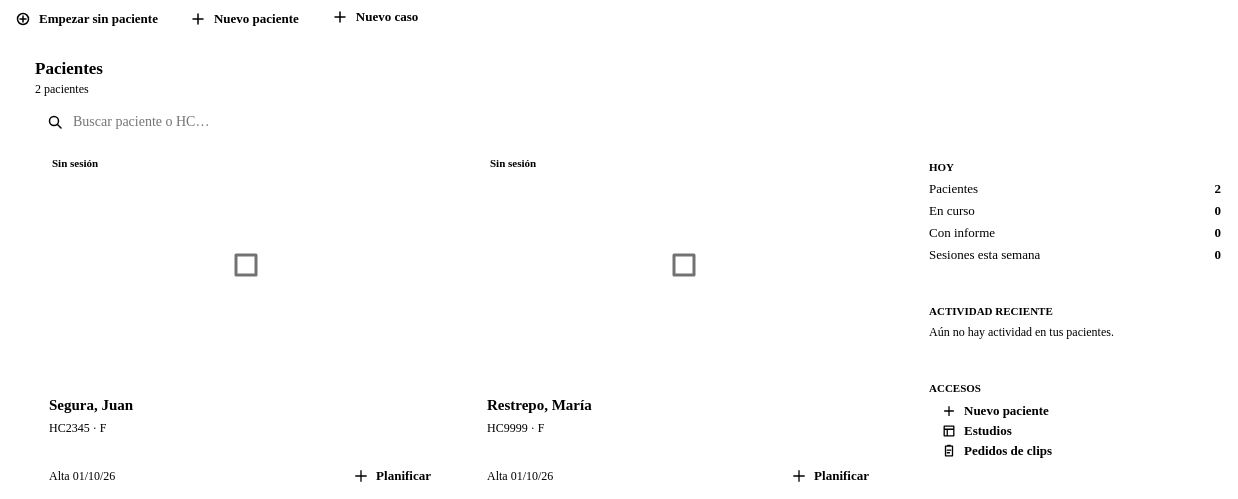
Scenario: la lista de pacientes (F2) › la búsqueda filtra por nombre y por HC sin distinguir mayúsculas
expect the heading "Segura, Juan" is shown: met, box [49,397,133,413]
Type "segura" into the field with placeholder "Buscar paciente o HC…".
click(187, 122); type("segura")  # box [71,112,303,130]
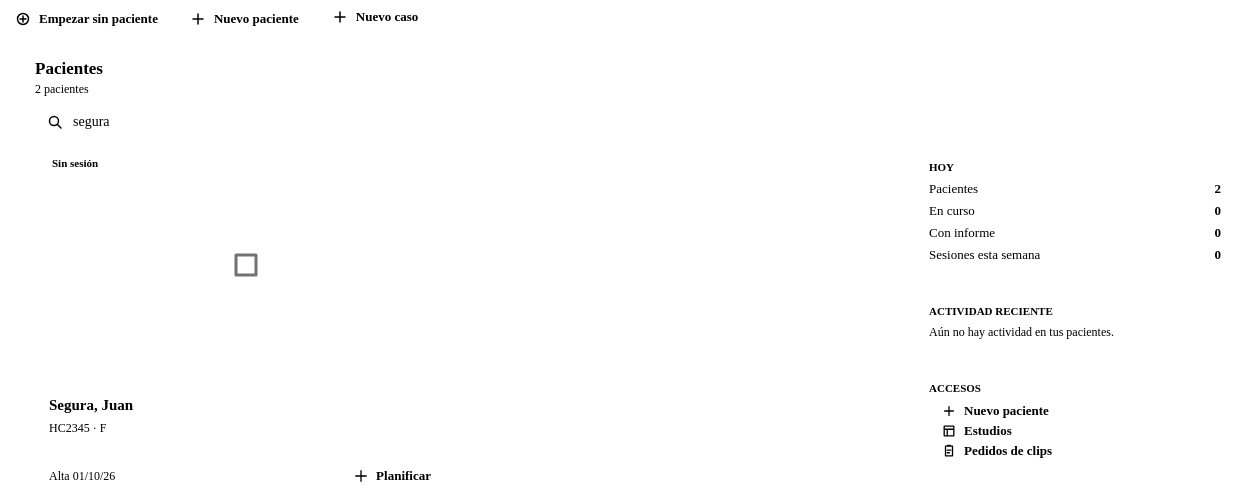
expect the heading "Segura, Juan" is shown: met, box [49,397,133,413]
expect the heading "Restrepo, María" is gone: met
Replace the text in the field with placeholder "Buscar paciente o HC…" with "hc9999" at (187, 122), box [71,112,303,130]
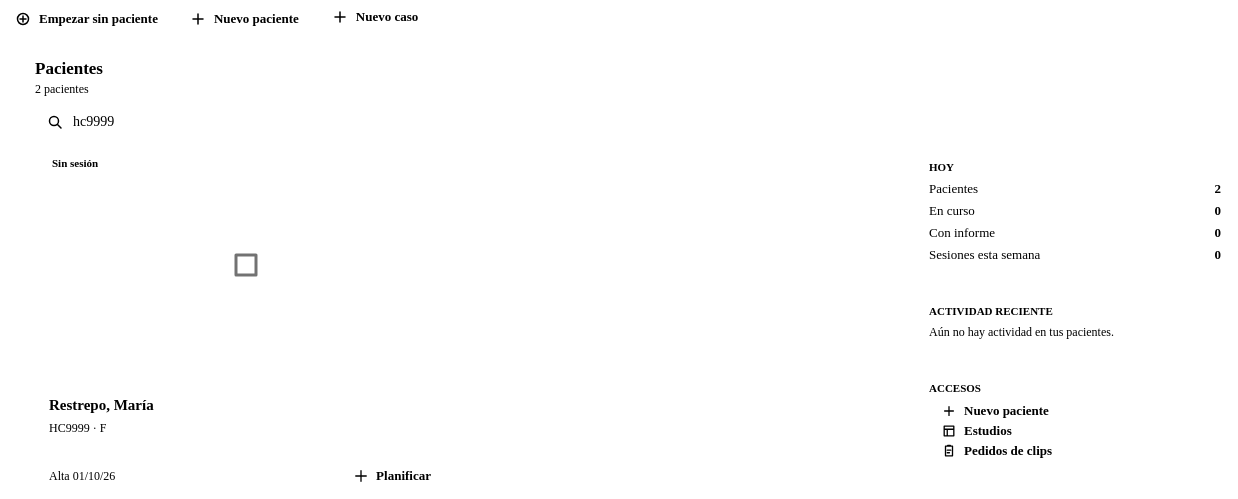
expect the heading "Segura, Juan" is gone: met
expect the heading "Restrepo, María" is shown: met, box [49,397,154,413]
Replace the text in the field with placeholder "Buscar paciente o HC…" with "basilar" at (187, 122), box [71,112,303,130]
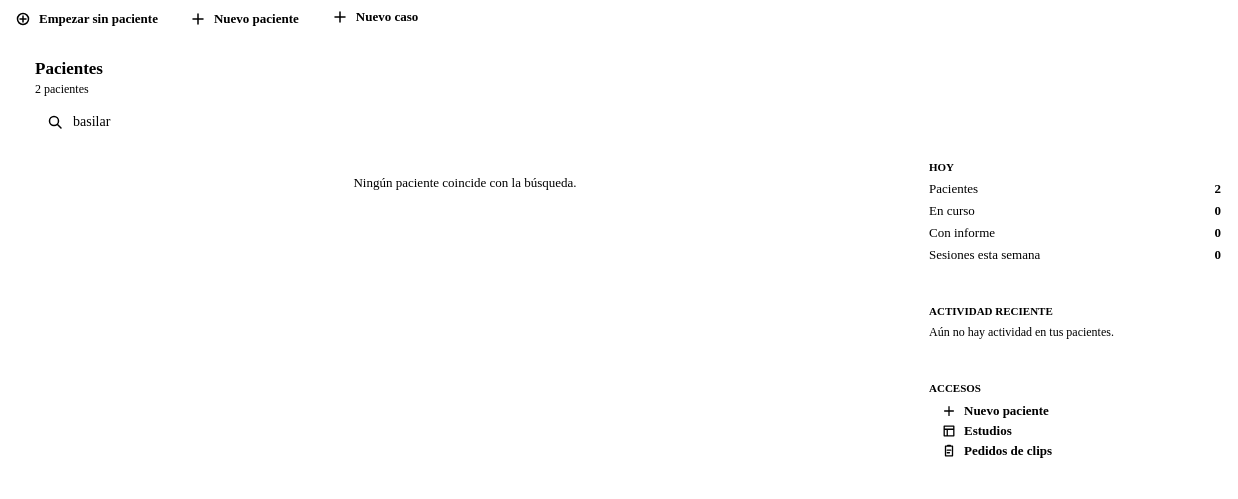
expect the text "Ningún paciente coincide con la búsqueda." is shown: met, box [354,174,577,190]
